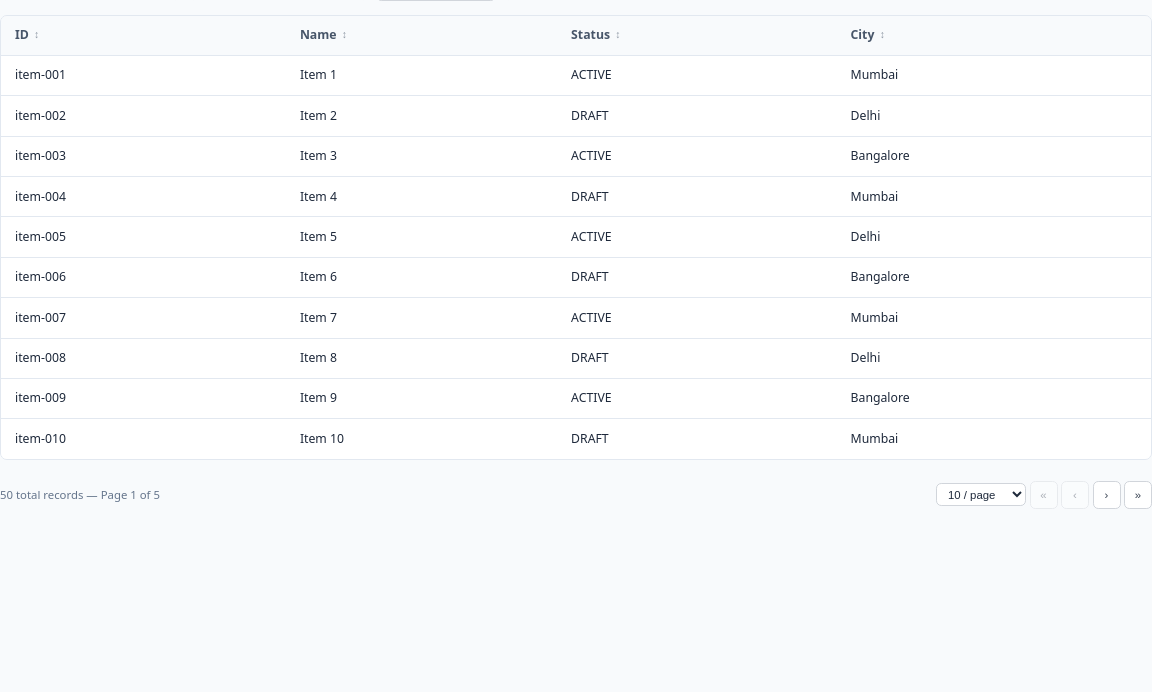
Test: DataTable › Pagination controls and page navigation › changes page size and resets to first page
The width and height of the screenshot is (1152, 692).
Expected: the text "50 total records — Page 1 of 5" is shown, [0,486,160,503]
Change page size to 25
Select "25 / page" in the dropdown named "Page size": (981, 495) [936,483,1026,506]
(page scrolled)
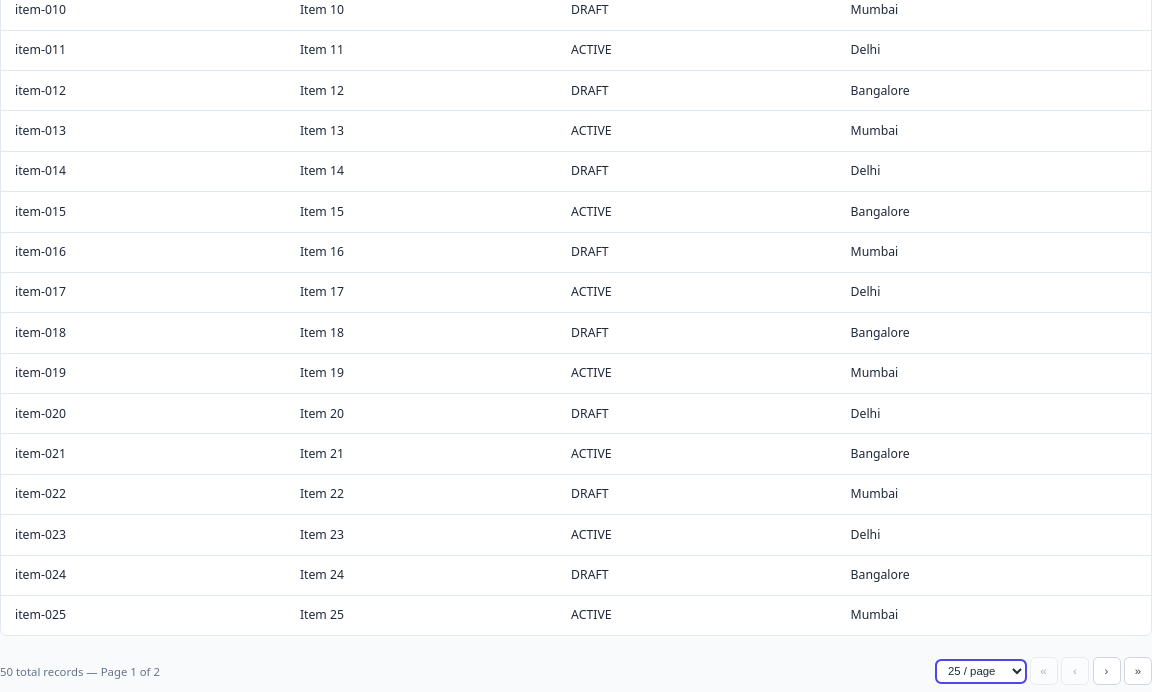
Expected: the text "50 total records — Page 1 of 2" is shown, [0,663,160,680]
